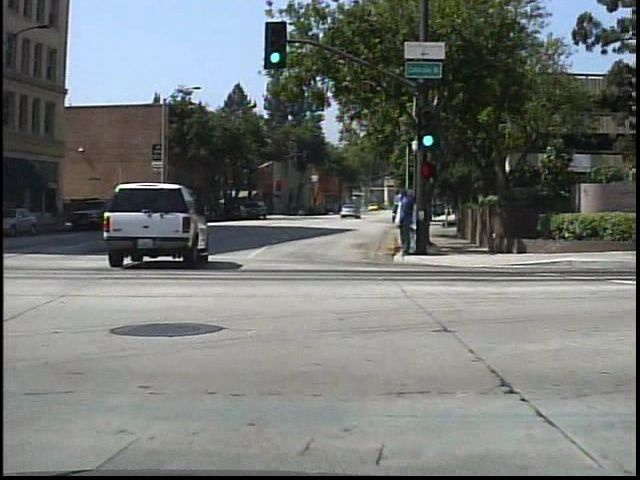person: (395, 186, 416, 256), (392, 192, 412, 256), (294, 201, 305, 216)
